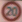20 km speed: (1, 1, 21, 22)
